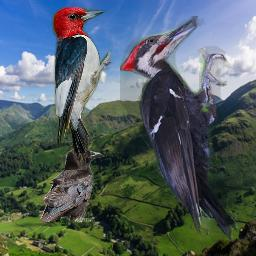Crow: (38, 146, 105, 222)
Woodpecker: (120, 16, 238, 242), (49, 7, 116, 170)
